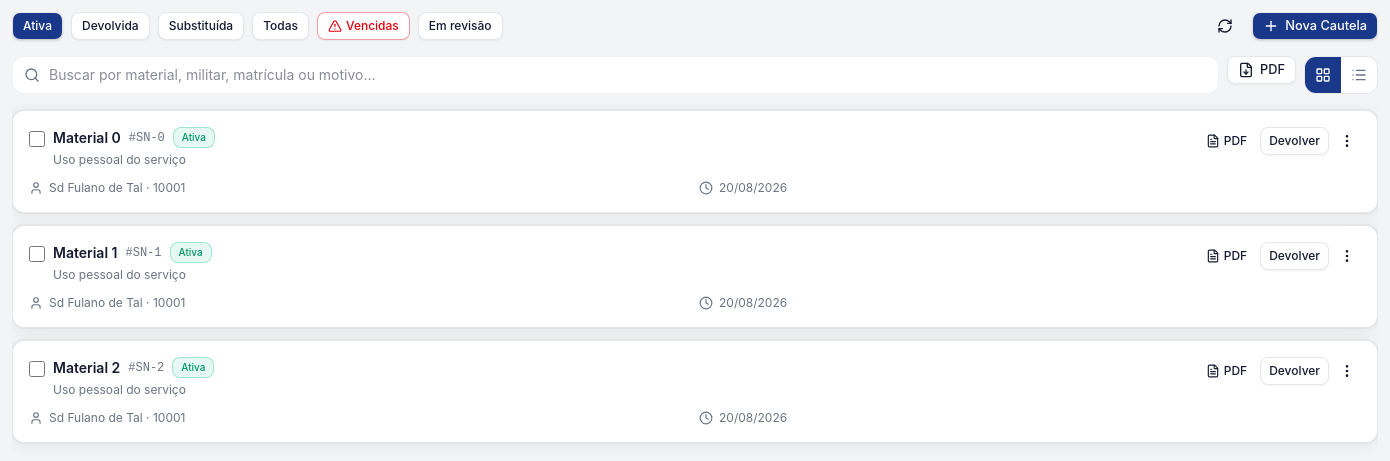
Test: CautelasClient — seleção via checkbox reflete no botão de PDF › selecionar um item mostra '1' no botão de PDF — exporta só o marcado, não a lista inteira
This screenshot has width=1390, height=461.
Expected: the number of elements with test id "cautela-row" is 3, [12,110,1378,213]; [12,225,1378,328]; [12,340,1378,443]
Primeiro checkbox de linha (grade mode é o default — cada card tem 1 checkbox aria-labeled).
Click the checkbox named "Selecionar cautela de Material 0". click: (37, 139)
box: [29,131,45,147]
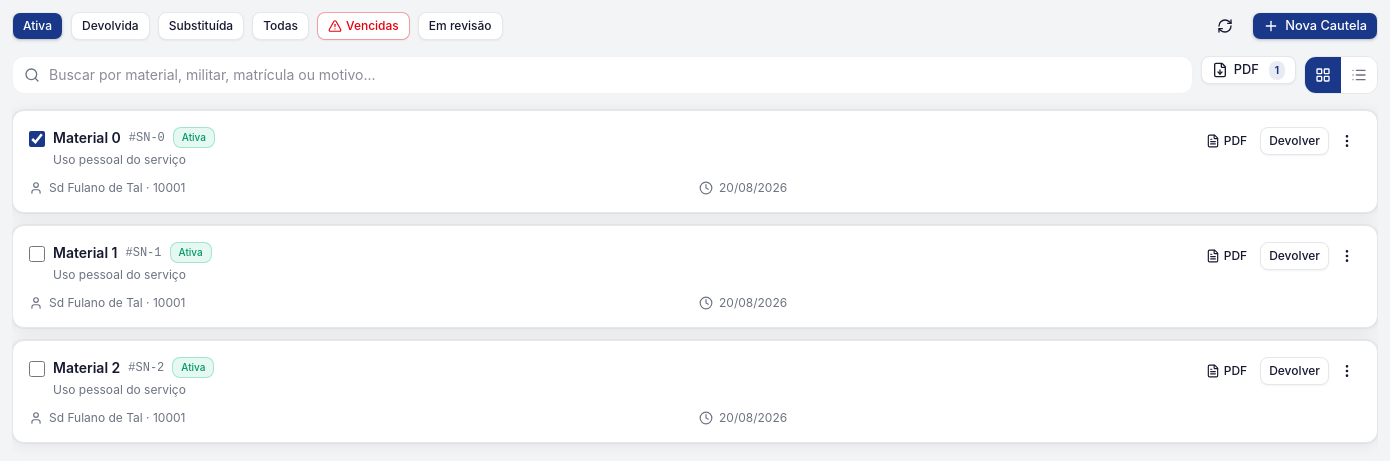
Result: the text "1" is shown at [1269,60,1285,80]
